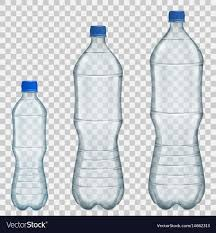available: (147, 7, 207, 211), (70, 22, 132, 211), (11, 75, 51, 212)
